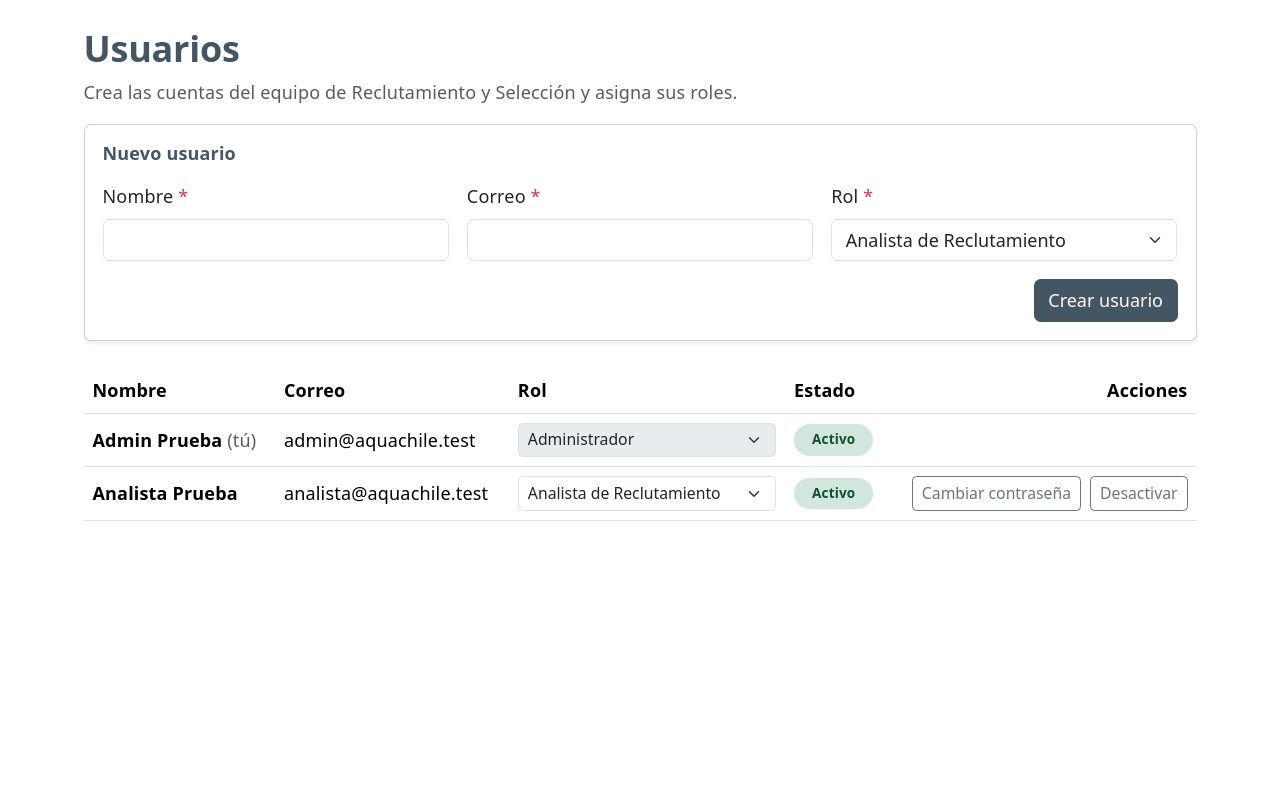
Test case: Usuarios › crea un usuario con su rol
Check: the text "analista@aquachile.test" is shown, box [275,467,509,520]
Type "Eva Dos" into the field labelled "Nombre *".
click(276, 240); type("Eva Dos")  # box [102,219,449,261]
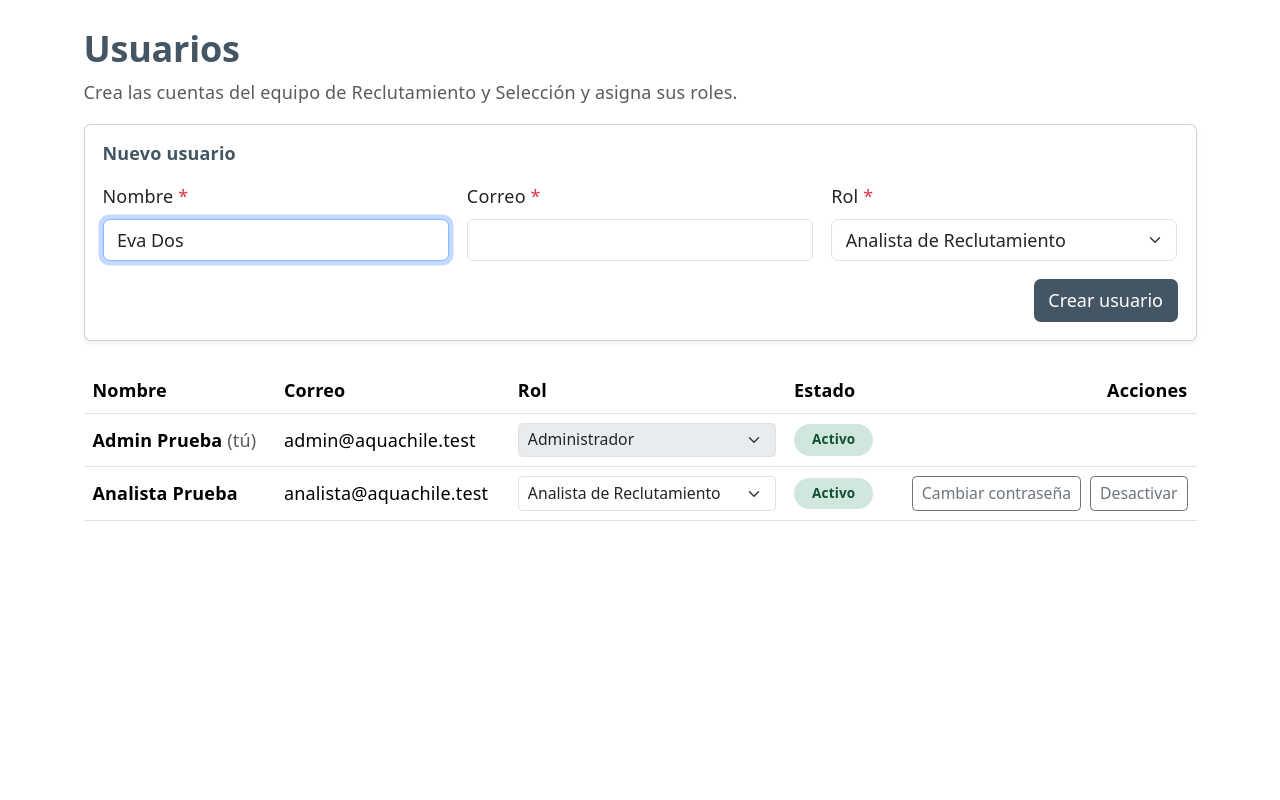
Type "eva@aquachile.test" into the field labelled "Correo *".
click(640, 240); type("eva@aquachile.test")  # box [467,219,813,261]
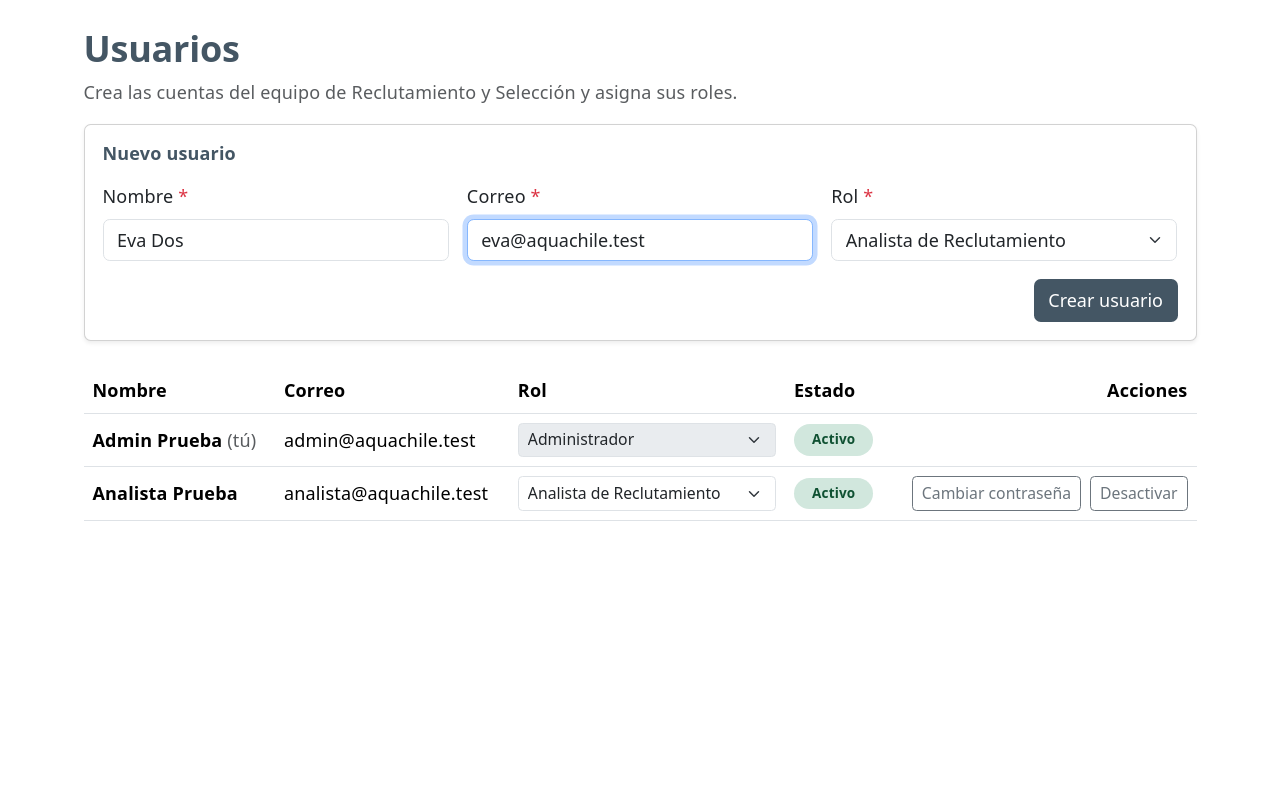
Select "Profesional Evaluador" in the dropdown labelled "Rol *" at coordinates (1004, 240), box [831,219,1178,261]
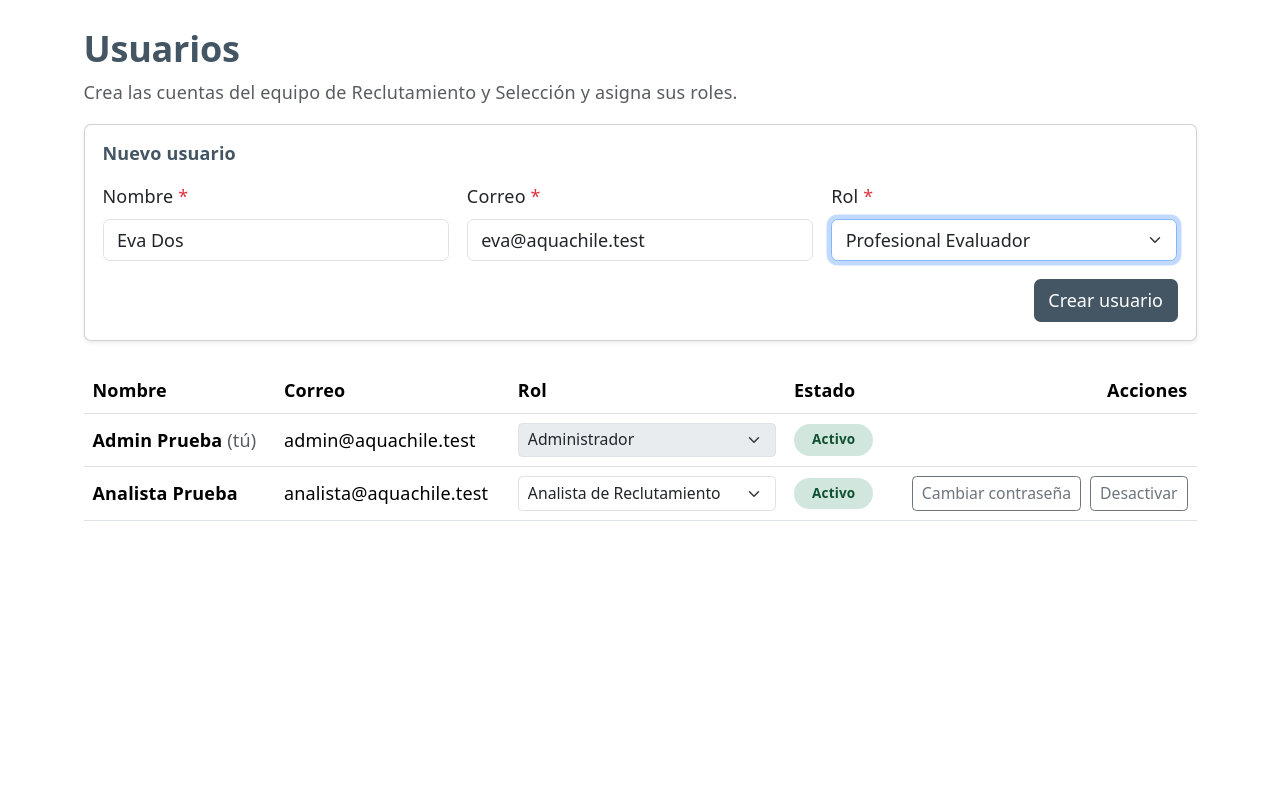
Click the button "Crear usuario".
click(1106, 301)  # box [1034,279,1178,322]
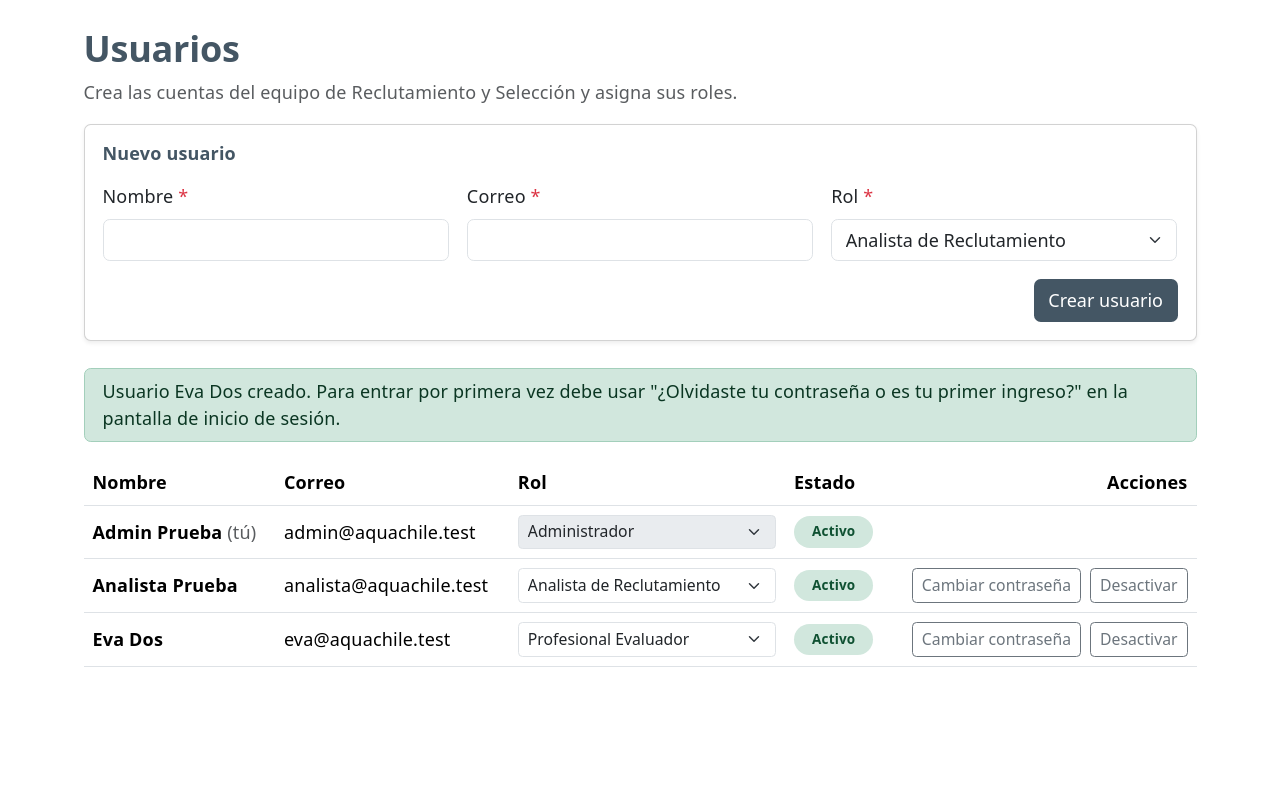
Check: the text "eva@aquachile.test" is shown, box [275,612,509,666]
